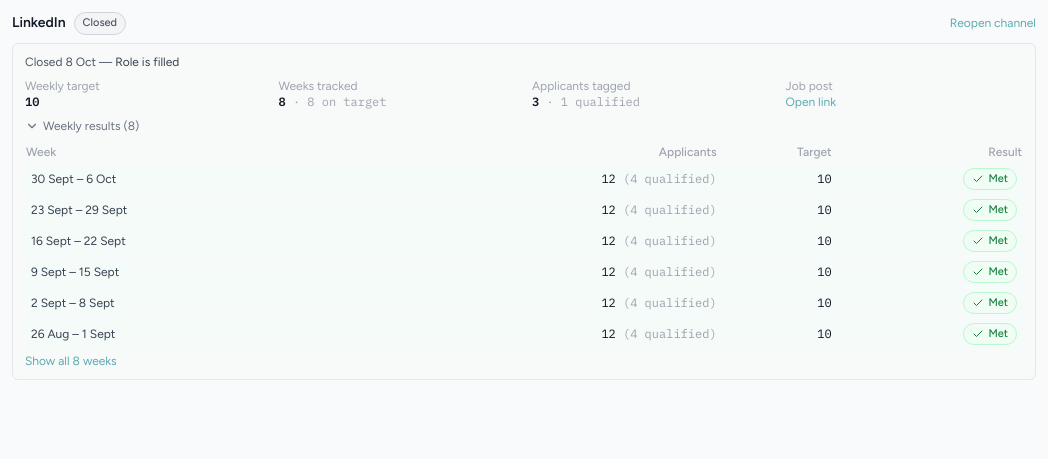
SourcingChannelBlock — closed channel summary › the weekly results of a long-running channel page by 6 inside the summary too
The width and height of the screenshot is (1048, 459).
Expected: the number of rows with test id "tracker-week" is 6, [25,164,1023,194]; [25,194,1023,225]; [25,225,1023,256]; [25,256,1023,287]; [25,287,1023,318]; [25,318,1023,348]
Click the button "Show all 8 weeks". click: (71, 360)
box: [25,352,117,368]
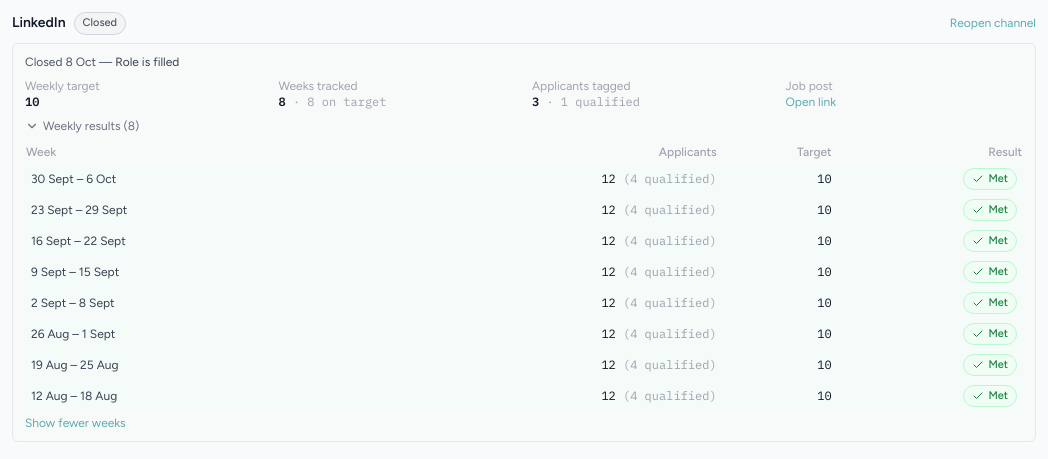
Expected: the number of rows with test id "tracker-week" is 8
